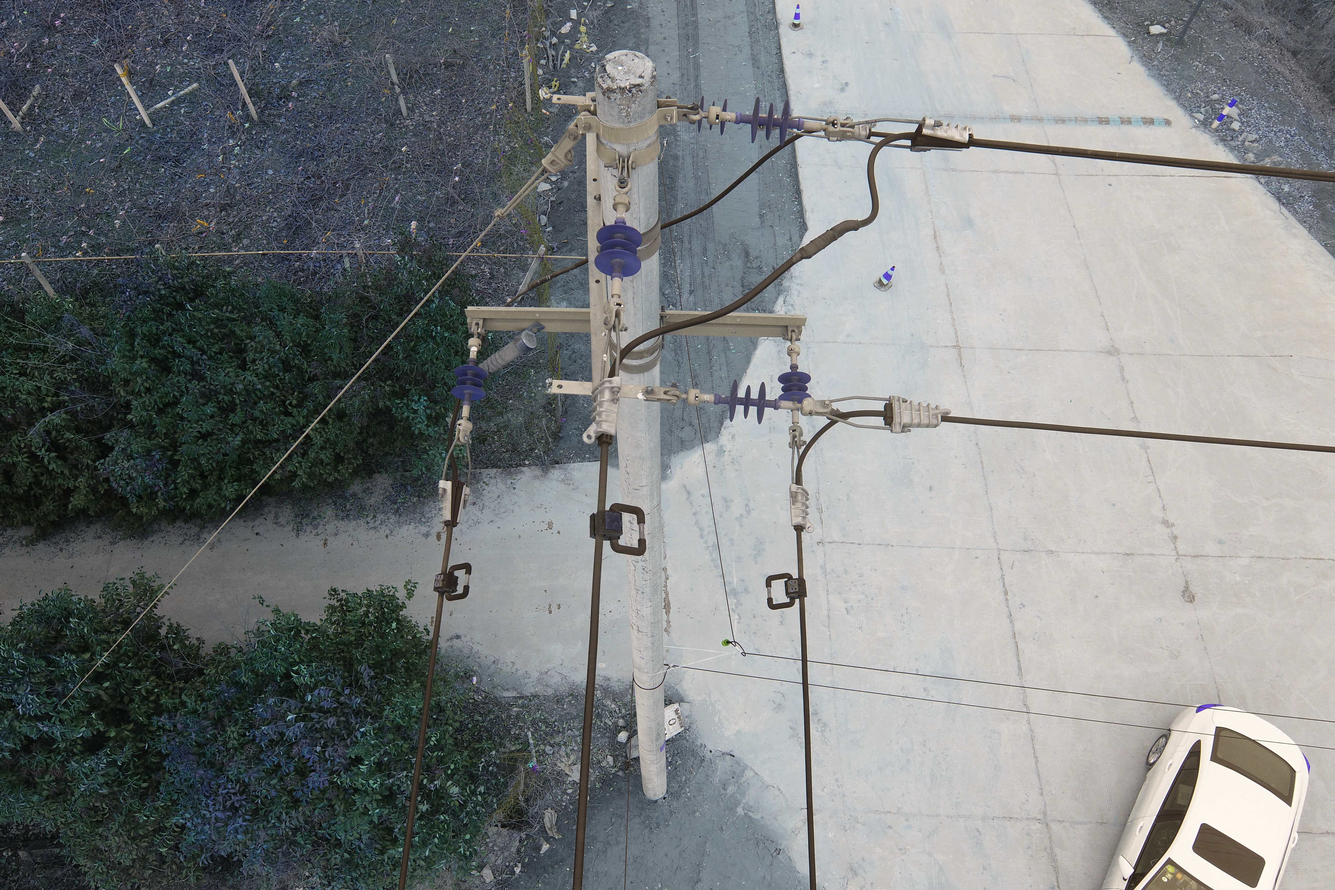severe_soiling_no_discharge_whole: (479, 332, 539, 376)
